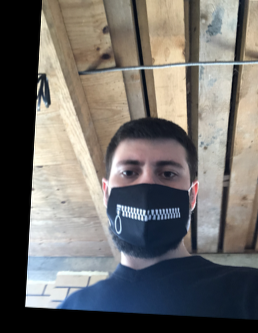with_mask: (105, 150, 189, 259)
